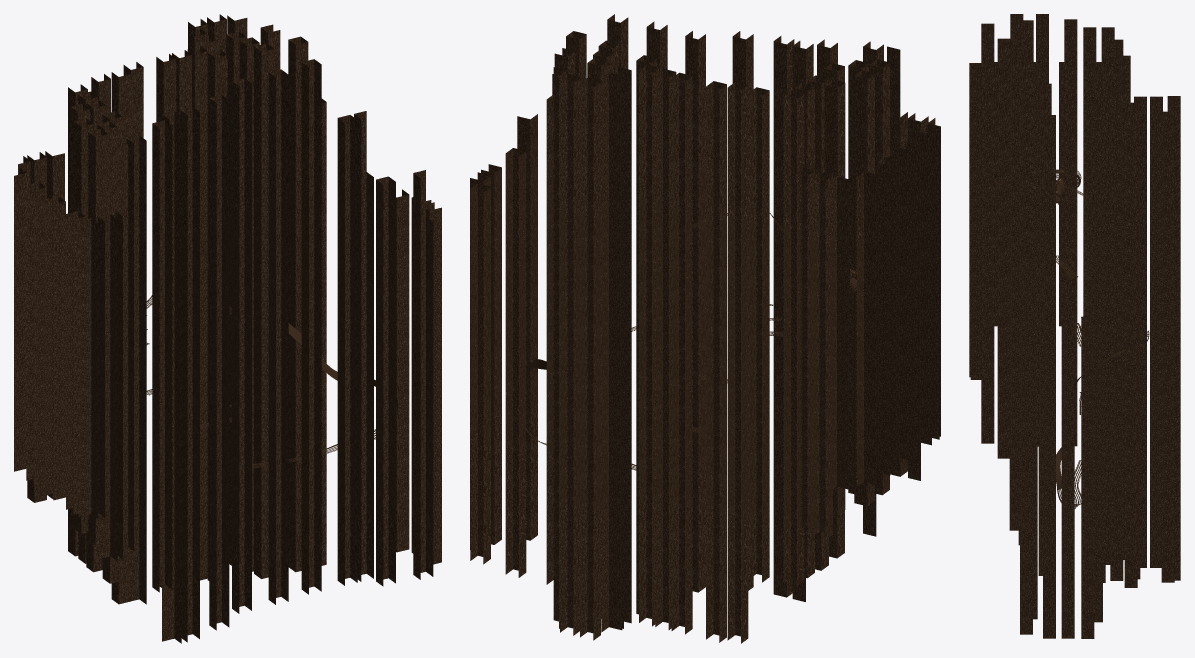
File: TrackCopy.obj
3 views of the same model, side by side, from view 1: azimuth 30°, elevation 25°; view 2: azimuth 150°, elevation 25°; view 3: azimuth 270°, elevation 25° (orthographic). The views are drawn at different scales.
Bounding box in the file's own units: 6103 × 7704 × 3133.
Materials: 1 (1 with a texture image).
